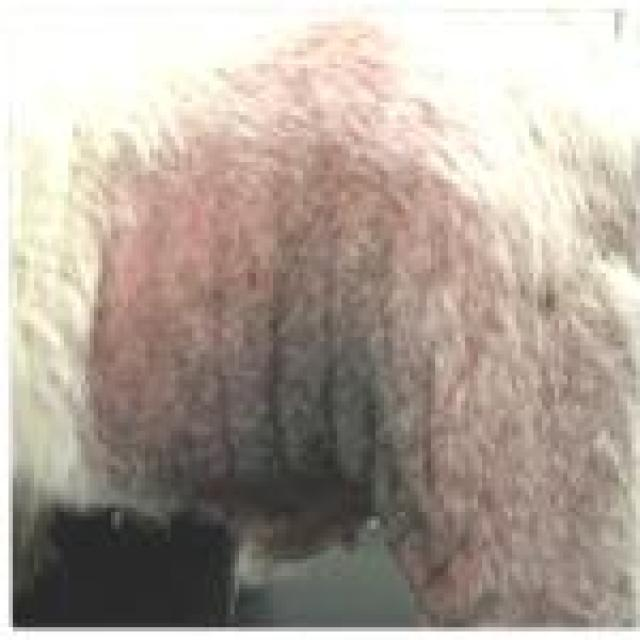fungal infection: (101, 152, 452, 488), (248, 31, 420, 142), (389, 507, 510, 640), (524, 277, 570, 328)
